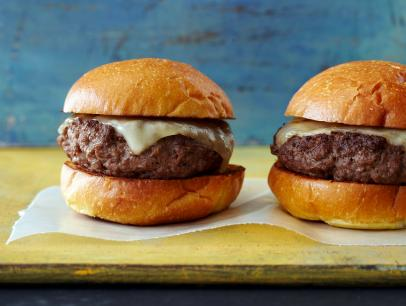hamburger_buns: (44, 49, 245, 218), (264, 48, 406, 238)
